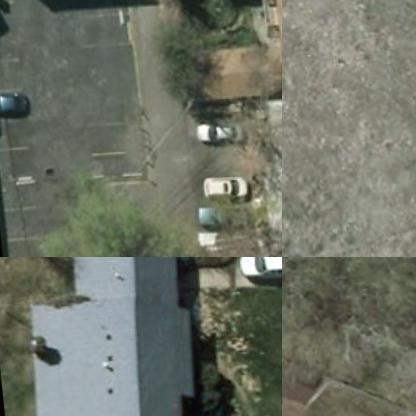car: (192, 124, 240, 150), (196, 180, 244, 206), (236, 257, 281, 278), (0, 93, 31, 120)
